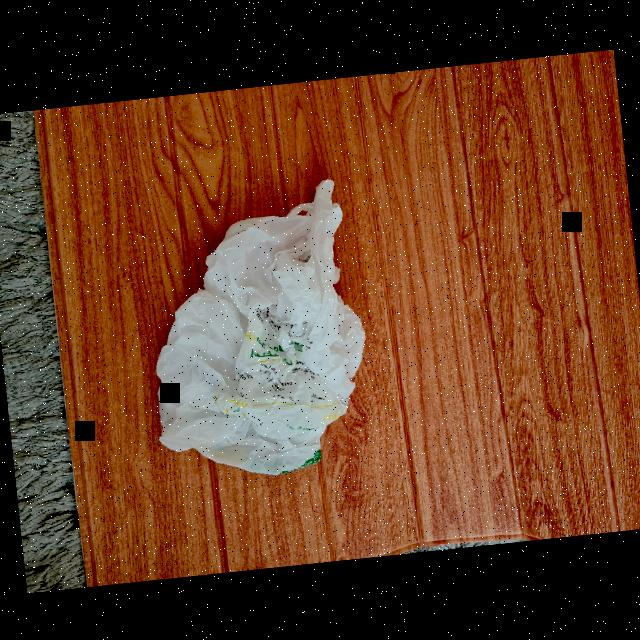plastic_bag: (127, 164, 380, 516)
